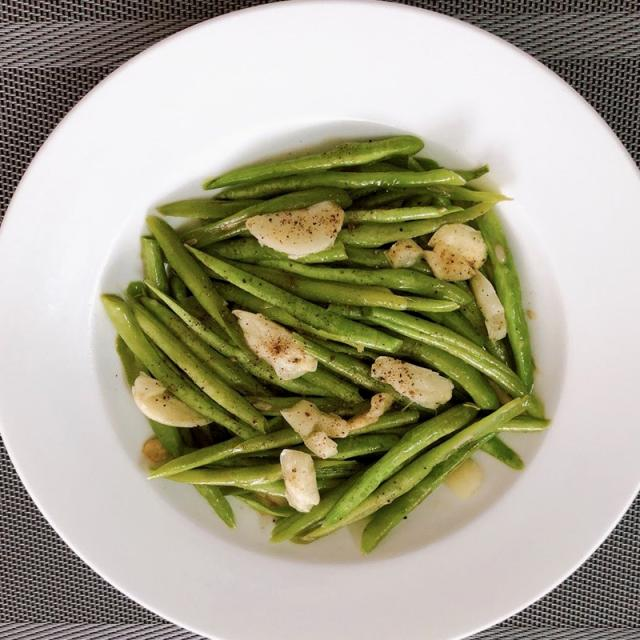dau que: (102, 137, 550, 554)
